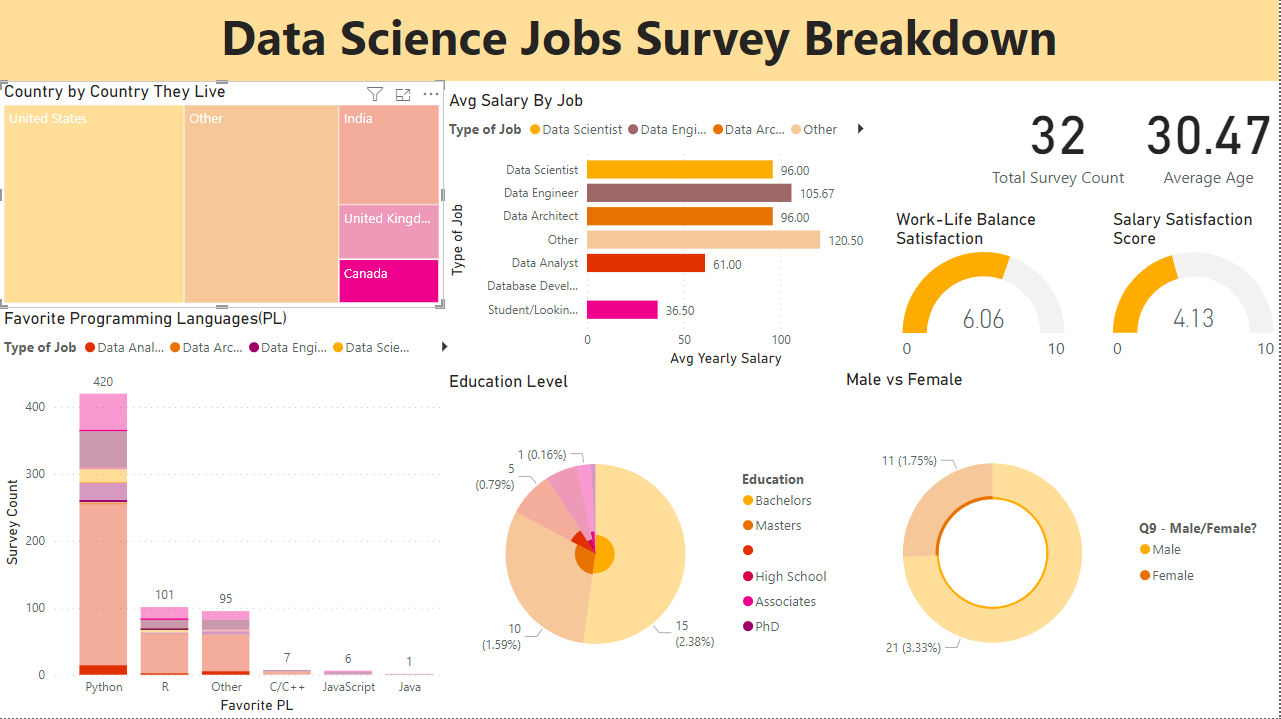

What the dashboard file says about the page in this screenshot:
{"tool":"powerbi","page":{"name":"Page 1","canvas":[1280,720],"ordinal":0},"visuals":[{"type":"textbox","box":[0,0,1280,83.2],"z":0},{"type":"card","fields":{"Values":["Count(Data Professional Survey.Unique ID)"]},"box":[978.7,84,159.9,111.7],"z":1000},{"type":"card","fields":{"Values":["Avg(Data Professional Survey.Q10 - Current Age)"]},"box":[1138.6,84,141.4,111.7],"z":2000},{"type":"barChart","title":"Avg Salary By Job","fields":{"Category":["Data Professional Survey.Q1 - Which Title Best Fits your Current Role?.1"],"Y":["Avg(Data Professional Survey.Average Salary)"],"Series":["Data Professional Survey.Q1 - Which Title Best Fits your Current Role?.1"]},"box":[444.8,92.5,436.6,280.4],"z":3000},{"type":"columnChart","title":"Favorite Programming Languages(PL)","fields":{"Category":["Data Professional Survey.Q5 - Favorite Programming Language.1"],"Y":["Count(Data Professional Survey.Unique ID)"],"Series":["Data Professional Survey.Q1 - Which Title Best Fits your Current Role?.1"]},"box":[0,310.2,465.4,409.9],"z":4000},{"type":"treemap","fields":{"Group":["Data Professional Survey.Q11 - Which Country do you live in?.1"],"Values":["CountNonNull(Data Professional Survey.Q11 - Which Country do you live in?.1)"]},"box":[0,83.2,444.8,227],"z":5000},{"type":"donutChart","title":"Male vs Female","fields":{"Y":["CountNonNull(Data Professional Survey.Q9 - Male/Female?)"],"Category":["Data Professional Survey.Q9 - Male/Female?","Data Professional Survey.Q11 - Which Country do you live in?.1"]},"box":[842.4,370.9,437.6,349.3],"z":6000},{"type":"gauge","title":"Salary Satisfaction Score","fields":{"Y":["Avg(Data Professional Survey.Q6 - How Happy are you in your Current Position with the following? (Salary))"],"MinValue":["Min(Data Professional Survey.Q6 - How Happy are you in your Current Position with the following? (Salary))"],"MaxValue":["Max(Data Professional Survey.Q6 - How Happy are you in your Current Position with the following? (Salary))"]},"box":[1109.5,210.6,170.5,160.3],"z":7000},{"type":"gauge","title":"Work-Life Balance Satisfaction","fields":{"Y":["Avg(Data Professional Survey.Q6 - How Happy are you in your Current Position with the following? (Work/Life Balance))"],"MinValue":["Min(Data Professional Survey.Q6 - How Happy are you in your Current Position with the following? (Work/Life Balance))"],"MaxValue":["Max(Data Professional Survey.Q6 - How Happy are you in your Current Position with the following? (Work/Life Balance))"]},"box":[891.7,210.6,184.9,160.3],"z":8000},{"type":"pieChart","title":"Education Level","fields":{"Y":["CountNonNull(Data Professional Survey.Q12 - Highest Level of Education)"],"Category":["Data Professional Survey.Q12 - Highest Level of Education"]},"box":[444.8,372.9,397.6,347.2],"z":9000}]}

Visuals, with their boxes in screenshot pixels (x1, y1, x2, y2), scaled from the page's 1280x720 canvas onto the 1281x719 screenshot:
textbox: box=[0, 0, 1280, 83]
card - Count(Data Professional Survey.Unique ID): box=[979, 84, 1139, 195]
card - Avg(Data Professional Survey.Q10 - Current Age): box=[1139, 84, 1280, 195]
"Avg Salary By Job" barChart: box=[445, 92, 882, 372]
"Favorite Programming Languages(PL)" columnChart: box=[0, 310, 466, 718]
treemap - Data Professional Survey.Q11 - Which Country do you live in?.1 x CountNonNull(Data Professional Survey.Q11 - Which Country do you live in?.1): box=[0, 83, 445, 310]
"Male vs Female" donutChart: box=[843, 370, 1280, 718]
"Salary Satisfaction Score" gauge: box=[1110, 210, 1280, 370]
"Work-Life Balance Satisfaction" gauge: box=[892, 210, 1077, 370]
"Education Level" pieChart: box=[445, 372, 843, 718]
